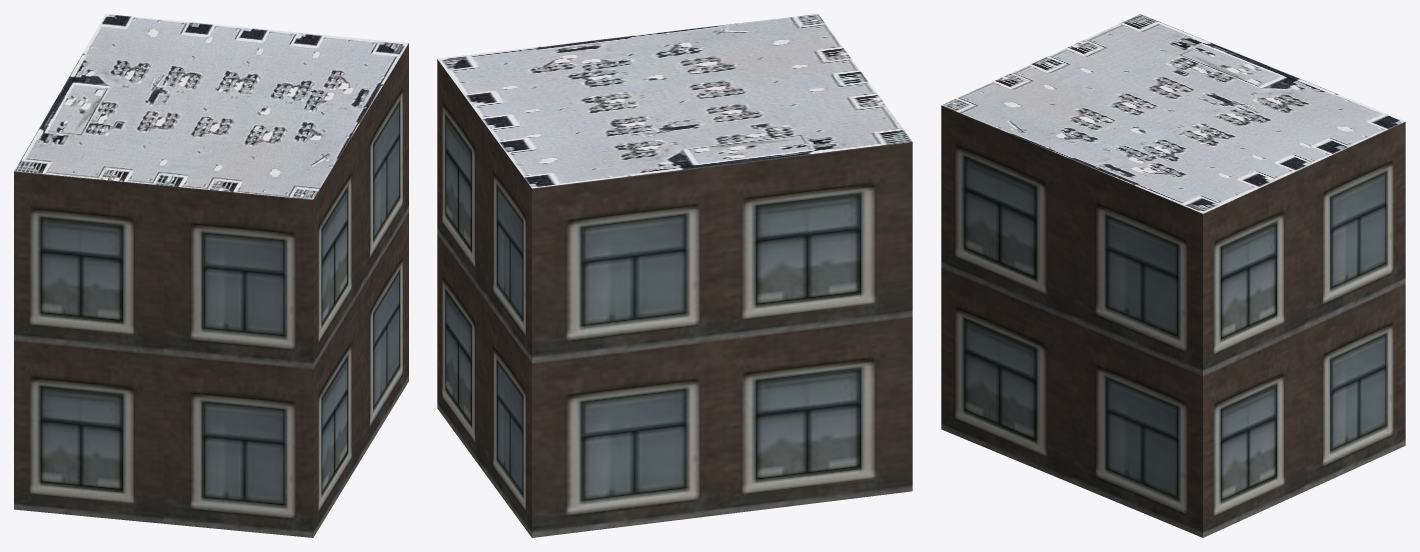
Rendered from ResTex__5106.fbx.
3 renders of one model, left to right at view 1: azimuth 30°, elevation 25°; view 2: azimuth 150°, elevation 25°; view 3: azimuth 270°, elevation 25°, orthographic. The views are drawn at different scales.
Visible parts, largest first — view 1: CityEngineMaterial_16_m, CityEngineMaterial_15_m; view 2: CityEngineMaterial_16_m, CityEngineMaterial_15_m; view 3: CityEngineMaterial_16_m, CityEngineMaterial_15_m.
Part boxes in pixels (box(x1,y1,x2,y2)): CityEngineMaterial_16_m: box(14, 43, 408, 537); CityEngineMaterial_15_m: box(14, 14, 408, 199); CityEngineMaterial_16_m: box(437, 59, 912, 537); CityEngineMaterial_15_m: box(437, 14, 912, 188); CityEngineMaterial_16_m: box(941, 105, 1405, 537); CityEngineMaterial_15_m: box(941, 14, 1404, 213).
Size of the model in its own units: 7.94 by 6 by 7.79.
Materials: 2 (2 with a texture image).
